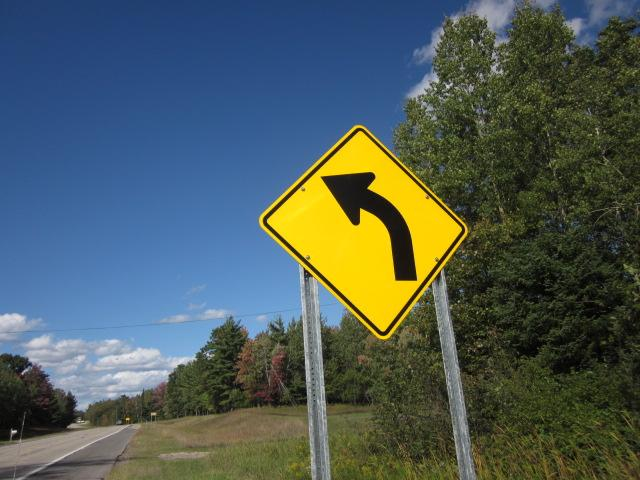warning: (263, 125, 469, 340)
